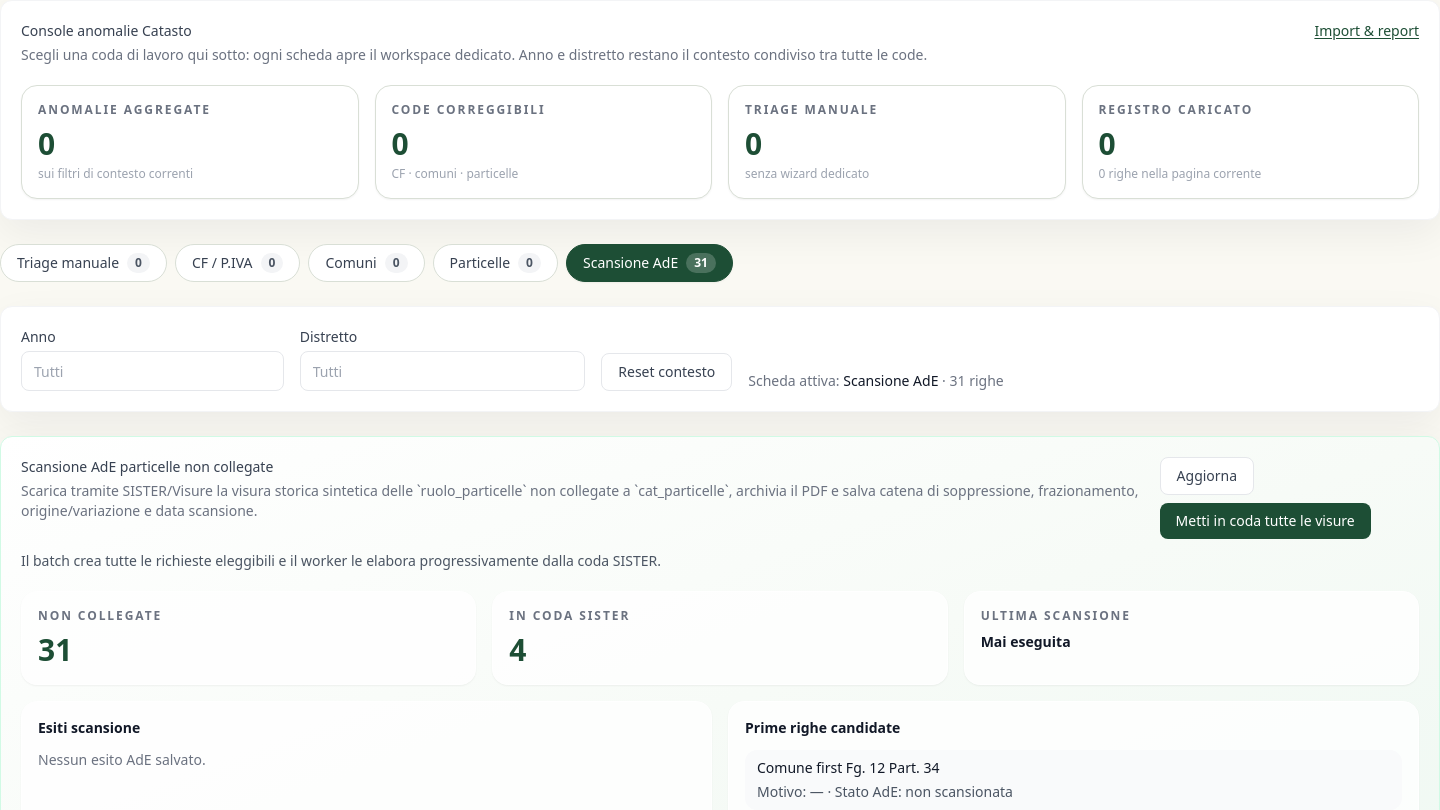
Test: R30 original AdE command, failures and asynchronous lifecycle › created=2 skipped=0 sends empty payload and refreshes only AdE
Check: the button "Aggiorna" is enabled, box [1160,457,1254,495]
Check: the button "Reset contesto" is enabled, box [601,353,732,391]
Click the button "Metti in coda tutte le visure". click: x=1265, y=521
box: [1160,503,1371,539]
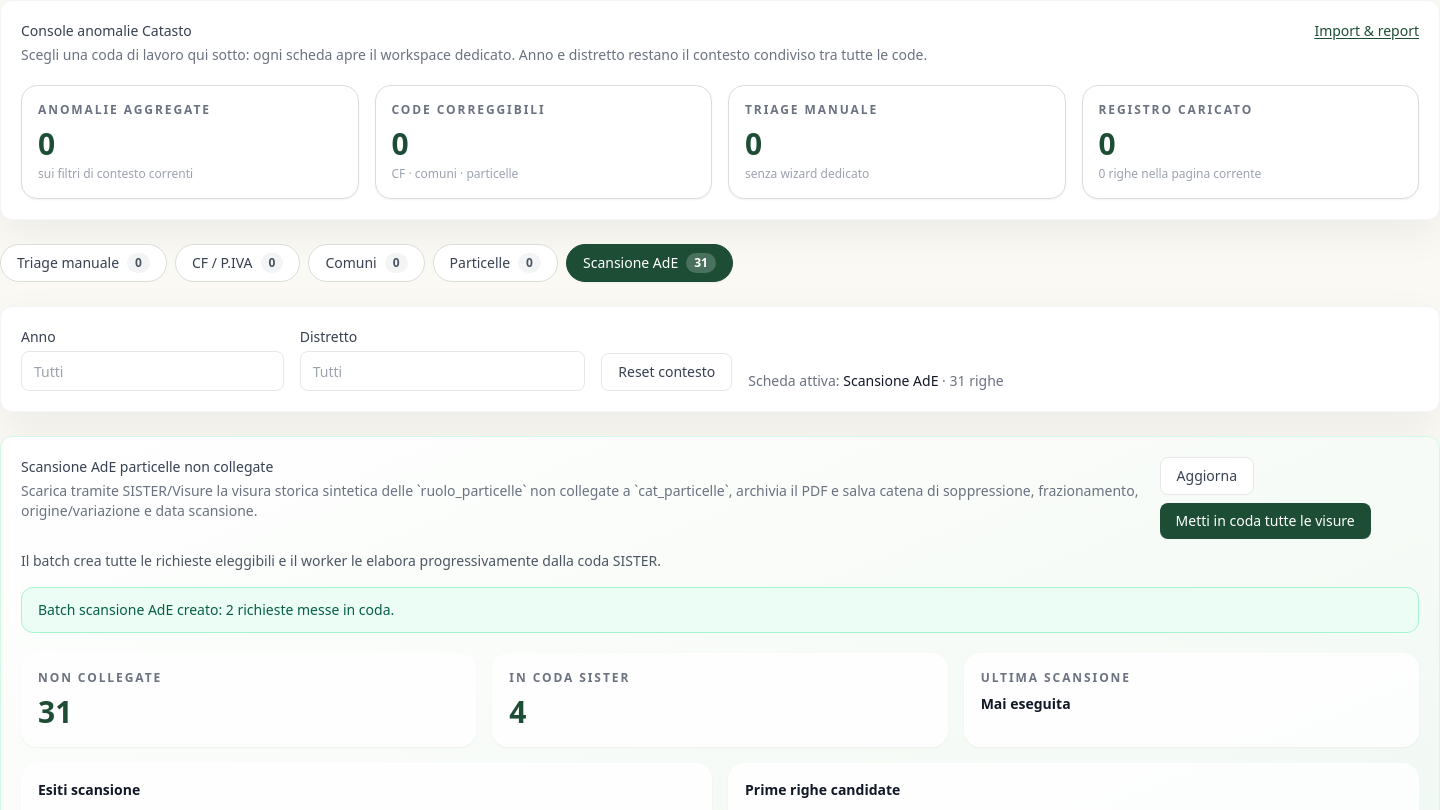
Check: the text "Batch scansione AdE creato: 2 richieste messe in coda." is shown, box [21,587,1419,633]
